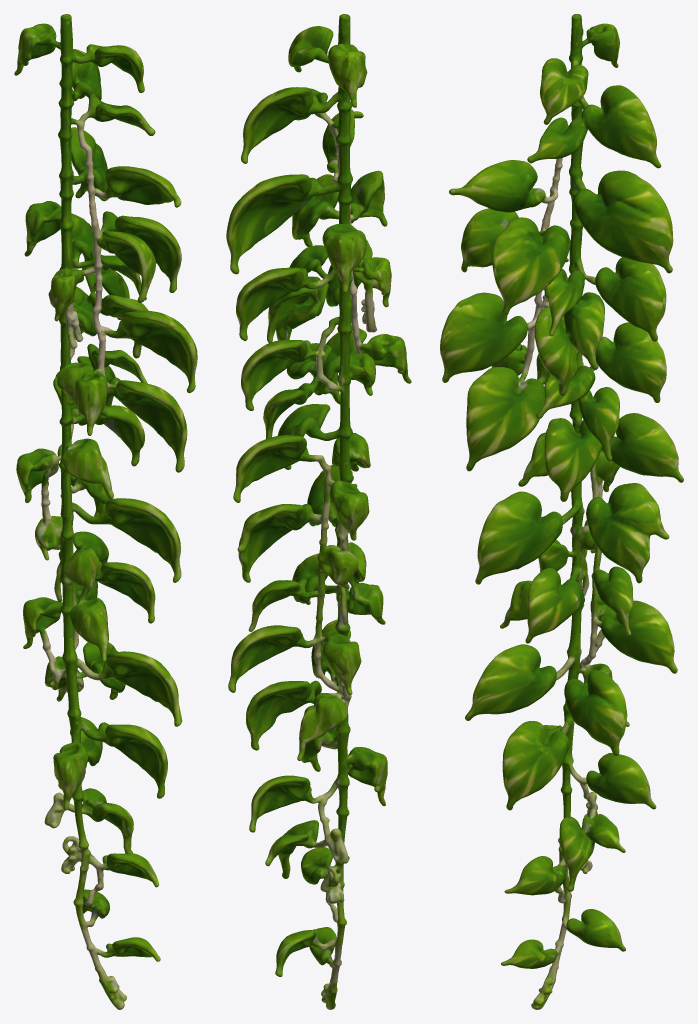
File: vine 2.glb
3 renders of one model, left to right at view 1: azimuth 30°, elevation 25°; view 2: azimuth 150°, elevation 25°; view 3: azimuth 270°, elevation 25°, orthographic. The views are drawn at different scales.
Parts seen in each view (by area): view 1: tripo_node_98fb7759-f234-4ced-b01e-bc57012756b0; view 2: tripo_node_98fb7759-f234-4ced-b01e-bc57012756b0; view 3: tripo_node_98fb7759-f234-4ced-b01e-bc57012756b0.
Boxes of the visible parts, x1,y1,x2,y2 form: tripo_node_98fb7759-f234-4ced-b01e-bc57012756b0: (14,14,197,1009); tripo_node_98fb7759-f234-4ced-b01e-bc57012756b0: (226,14,411,1009); tripo_node_98fb7759-f234-4ced-b01e-bc57012756b0: (440,14,683,1009).
Bounding box in the file's own units: 0.1201 × 1 × 0.226.
Materials: 1 (1 with a texture image).
